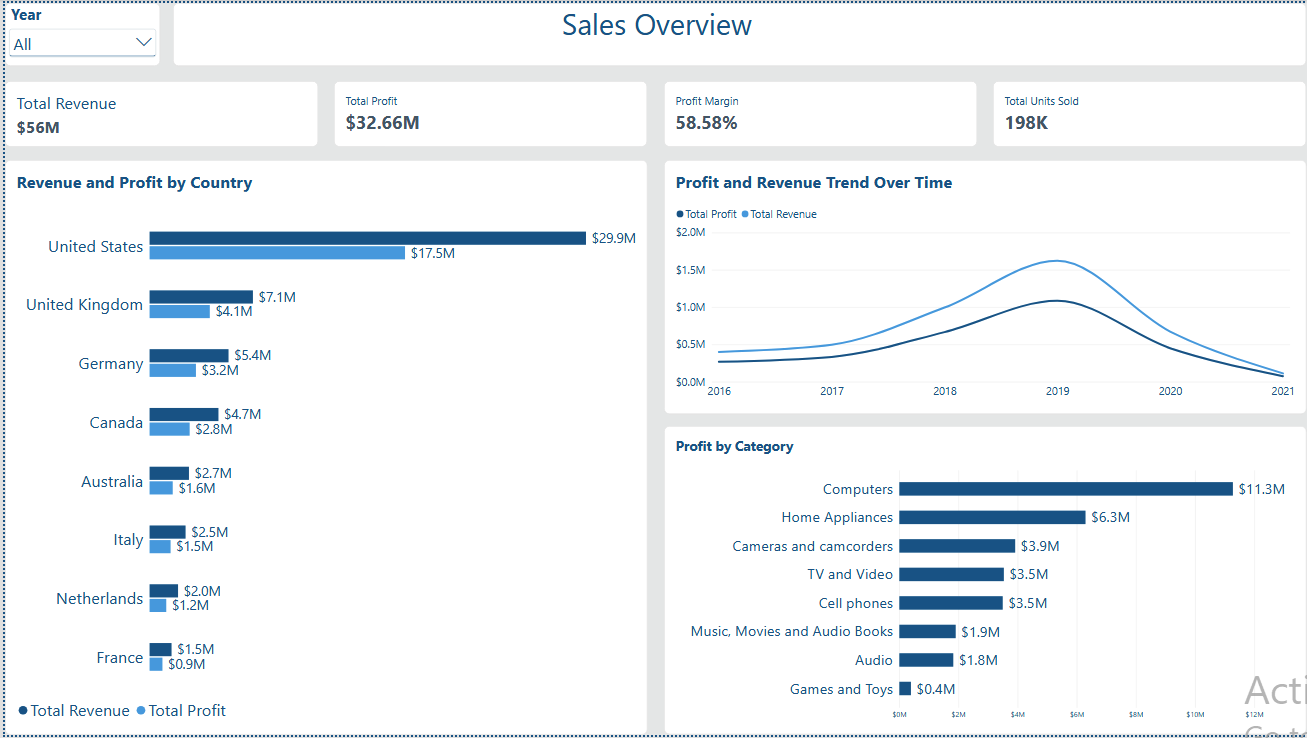

Layout of this report page (visuals, bound fields, positions):
{"tool":"powerbi","page":{"name":"Sales Overview","canvas":[1920,1080],"ordinal":0},"visuals":[{"type":"cardVisual","fields":{"Data":["_Mesures.Profit Margin"]},"box":[971.8,115.2,462.3,97.5],"z":0},{"type":"cardVisual","fields":{"Data":["_Mesures.Total Profit"]},"box":[485.9,115.2,462.3,97.5],"z":1000},{"type":"cardVisual","fields":{"Data":["_Mesures.Total Revenue"]},"box":[0,115.2,462.3,97.5],"z":2000},{"type":"cardVisual","fields":{"Data":["_Mesures.Total Units Sold"]},"box":[1457.7,115.2,462.3,97.5],"z":3000},{"type":"clusteredBarChart","title":"Revenue and Profit by Country","fields":{"Category":["Customers.Country"],"Y":["_Mesures.Total Revenue","_Mesures.Total Profit"]},"box":[0,231.9,948.2,847.8],"z":4000},{"type":"clusteredBarChart","title":"Profit by Category","fields":{"Category":["Products.Category"],"Y":["_Mesures.Total Profit"]},"box":[972.3,668.4,947.2,411.6],"z":5000},{"type":"lineChart","title":"Profit and Revenue Trend Over Time","fields":{"Category":["DateTable.Year Hierarchy.Year","DateTable.Year Hierarchy.Quarter","DateTable.Year Hierarchy.Month","DateTable.Year Hierarchy.Date"],"Y":["_Mesures.Total Profit","_Mesures.Total Revenue"]},"box":[972.3,231.6,947.2,413.1],"z":6000},{"type":"textbox","box":[248.1,0,1671.9,93],"z":7000},{"type":"slicer","fields":{"Values":["DateTable.Year Hierarchy.Year"]},"box":[0,0,228.9,93],"z":8000}]}

Visuals, with their boxes in screenshot pixels (x1, y1, x2, y2), scaled from the page's 1920x1080 canvas onto the 1307x738 screenshot:
cardVisual - _Mesures.Profit Margin: [662, 79, 976, 145]
cardVisual - _Mesures.Total Profit: [331, 79, 645, 145]
cardVisual - _Mesures.Total Revenue: [0, 79, 315, 145]
cardVisual - _Mesures.Total Units Sold: [992, 79, 1306, 145]
"Revenue and Profit by Country" clusteredBarChart: [0, 158, 645, 737]
"Profit by Category" clusteredBarChart: [662, 457, 1306, 737]
"Profit and Revenue Trend Over Time" lineChart: [662, 158, 1306, 441]
textbox: [169, 0, 1306, 64]
slicer - DateTable.Year Hierarchy.Year: [0, 0, 156, 64]
